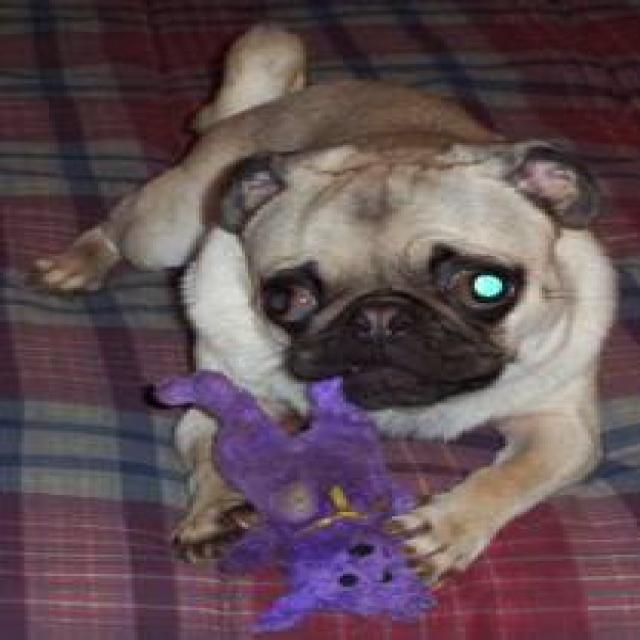dog-pug: (18, 23, 622, 580)
